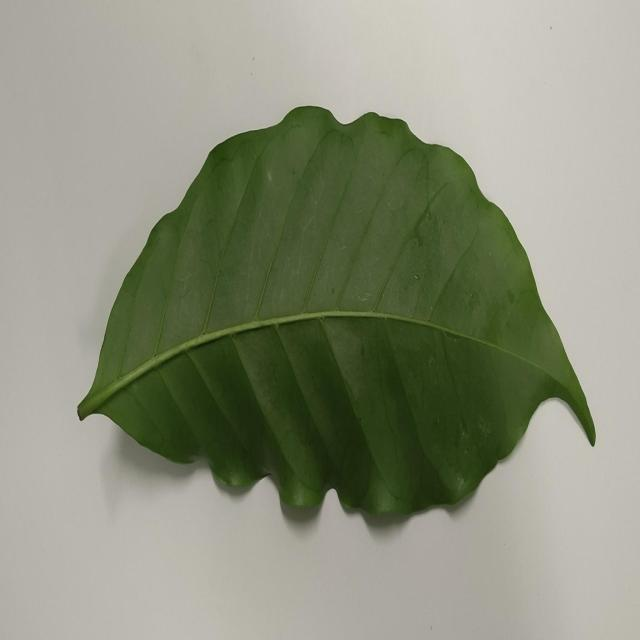Sanas: (76, 106, 598, 535)
